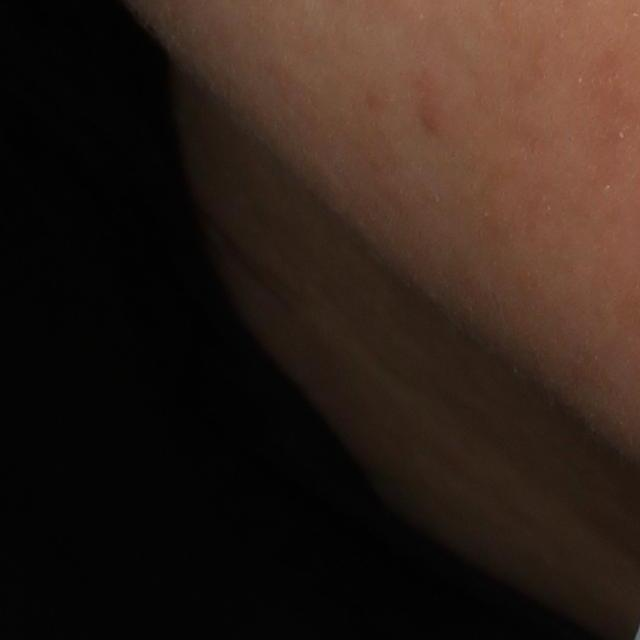papule: (418, 104, 447, 137)
